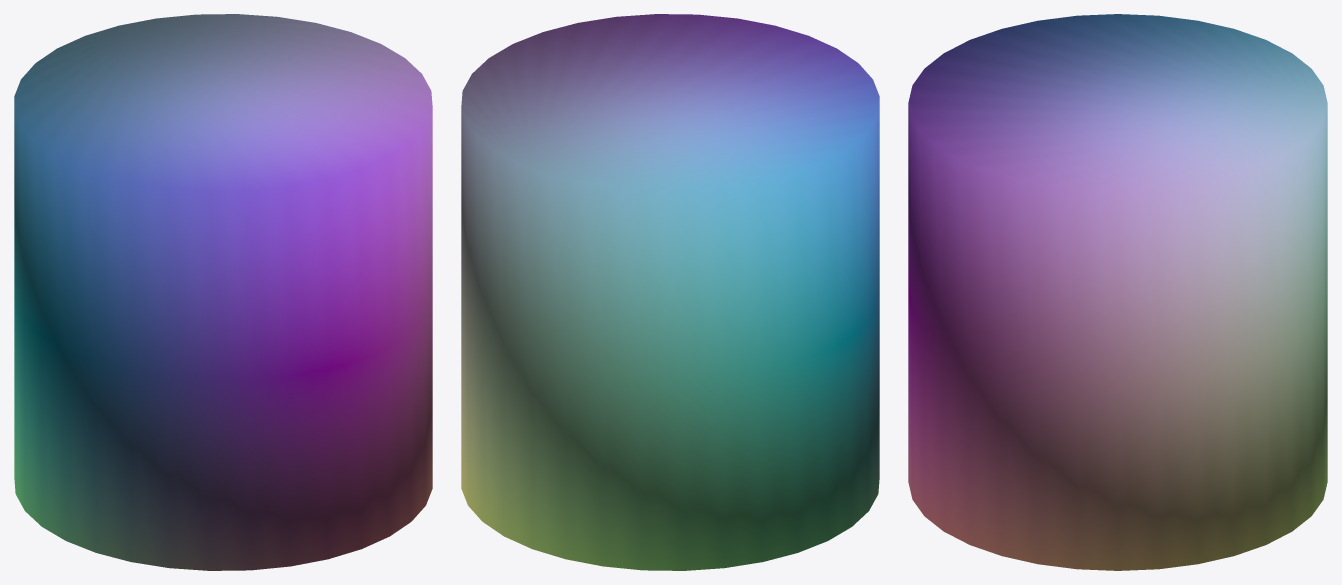
3 renders of one model, left to right at view 1: azimuth 30°, elevation 25°; view 2: azimuth 150°, elevation 25°; view 3: azimuth 270°, elevation 25°, orthographic.
Visible parts, largest first — view 1: Cylinder; view 2: Cylinder; view 3: Cylinder.
Boxes of the visible parts, left/top/right/bottom form: Cylinder: left=14, top=14, right=432, bottom=570; Cylinder: left=461, top=14, right=879, bottom=570; Cylinder: left=908, top=14, right=1327, bottom=570.
Size of the model in its own units: 200 by 200 by 200.
